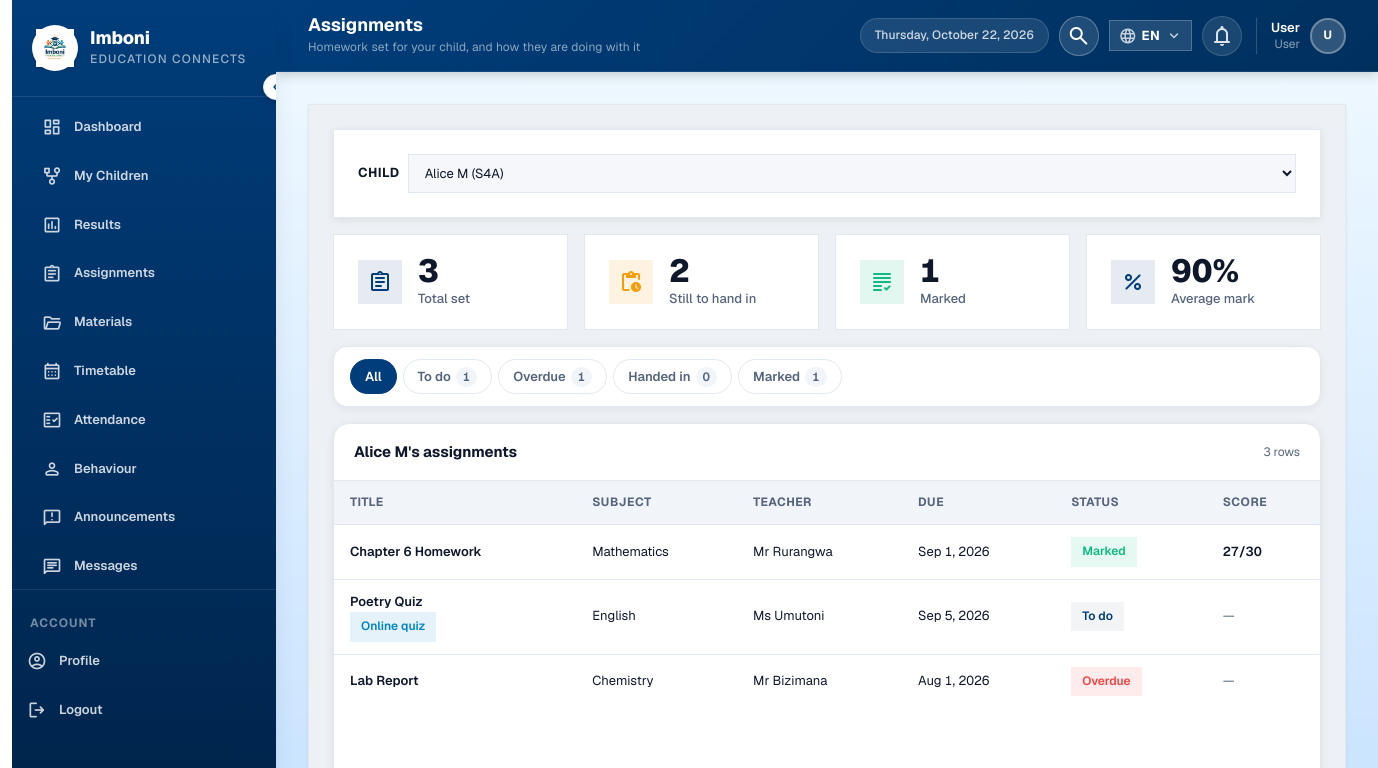
Test: ParentAssignments › filters to a single status
Expected: the text "Chapter 6 Homework" is shown, [350,542,482,560]
What coordinates should you click on to do the following:
click the button "Overdue 1"
I would click on:
 (553, 377)
Its box is [498,359,607,394].
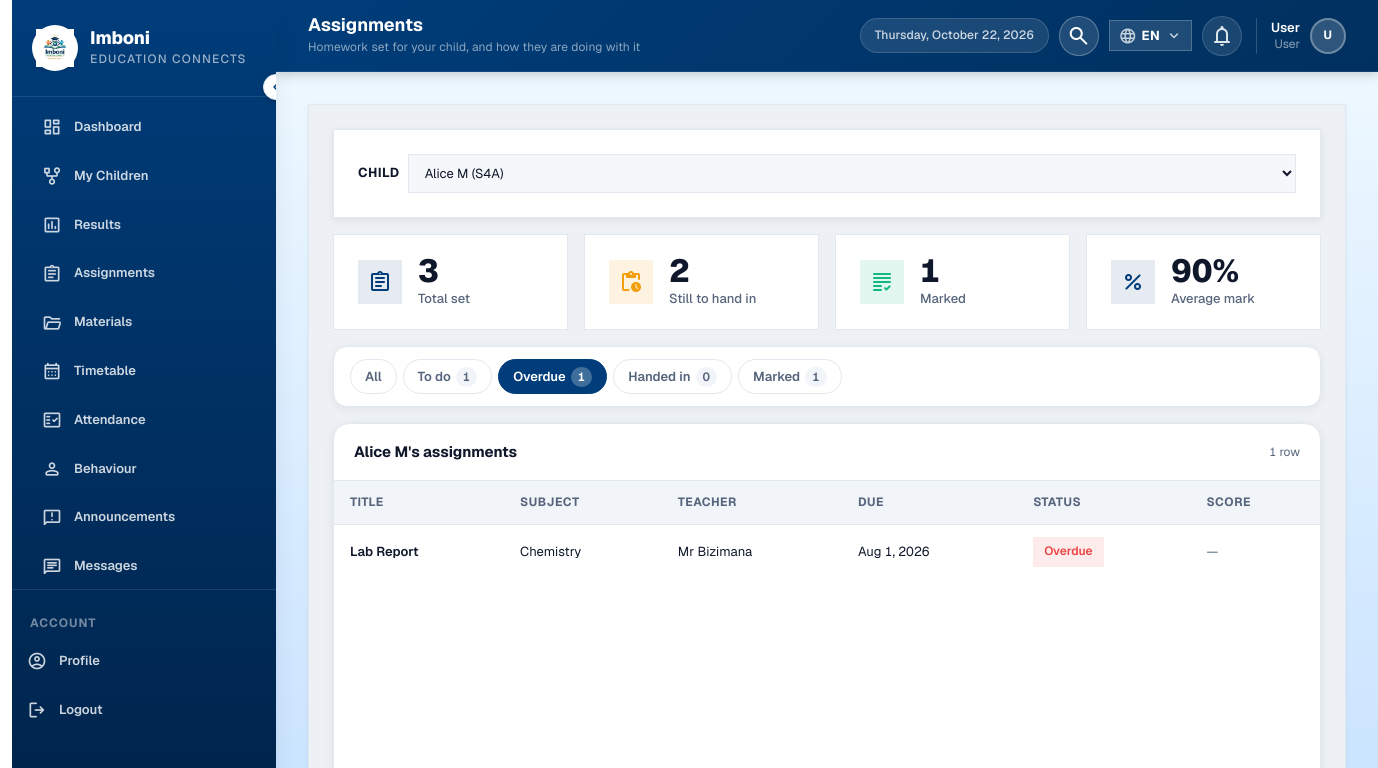
Expected: the text "Lab Report" is shown, [350,542,418,560]
Expected: the text "Chapter 6 Homework" is gone
